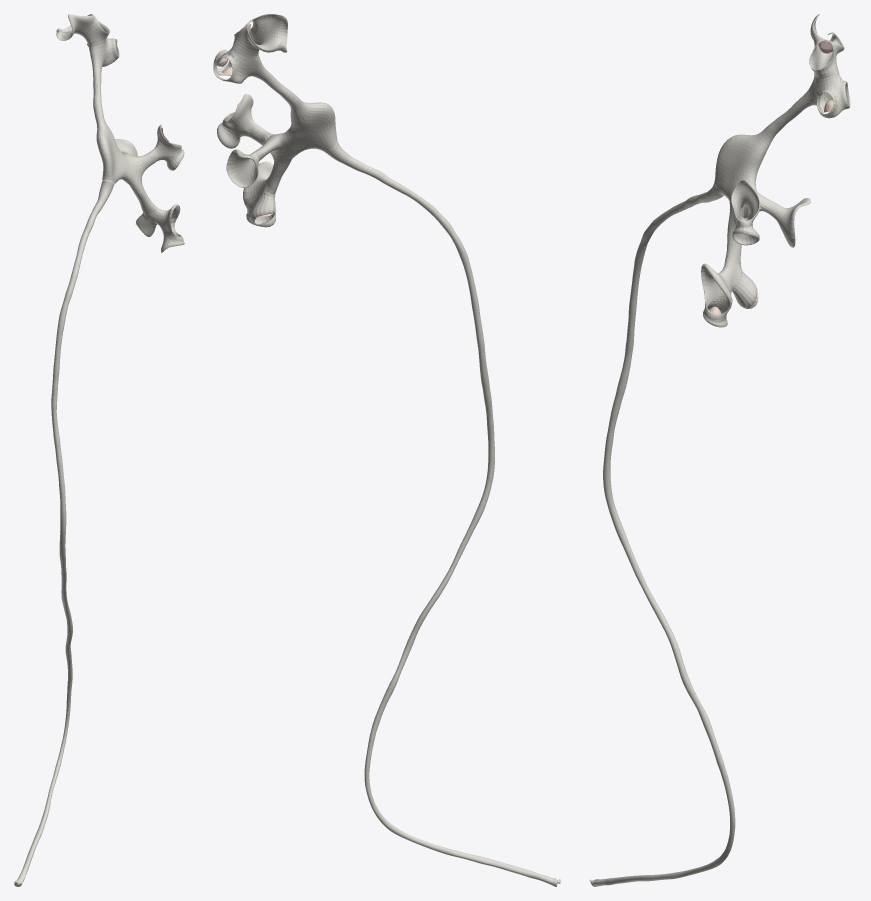
The model's file is VH_F_Ureter_L_0.8.glb.
3 renders of one model, left to right at view 1: azimuth 30°, elevation 25°; view 2: azimuth 150°, elevation 25°; view 3: azimuth 270°, elevation 25°, orthographic. The views are drawn at different scales.
Visible parts, largest first — view 1: VH_F_left_ureter, VH_F_renal_pelvis_L, VH_F_minor_calyx_L_a, VH_F_major_calyx_L_a, VH_F_minor_calyx_L_h, VH_F_major_calyx_L_d, VH_F_major_calyx_L_c, VH_F_minor_calyx_L_f; view 2: VH_F_left_ureter, VH_F_renal_pelvis_L, VH_F_minor_calyx_L_a, VH_F_minor_calyx_L_e, VH_F_minor_calyx_L_c, VH_F_minor_calyx_L_f; view 3: VH_F_left_ureter, VH_F_renal_pelvis_L, VH_F_minor_calyx_L_h, VH_F_minor_calyx_L_f, VH_F_major_calyx_L_a, VH_F_minor_calyx_L_a, VH_F_minor_calyx_L_e, VH_F_minor_calyx_L_i, VH_F_minor_calyx_L_d, VH_F_major_calyx_L_d, VH_F_minor_calyx_L_c, VH_F_minor_calyx_L_b (+1 smaller).
Boxes of the visible parts, left/top/right/bottom form: VH_F_left_ureter: left=14, top=180, right=113, bottom=886; VH_F_renal_pelvis_L: left=94, top=106, right=130, bottom=184; VH_F_minor_calyx_L_a: left=56, top=14, right=99, bottom=48; VH_F_major_calyx_L_a: left=89, top=43, right=105, bottom=111; VH_F_minor_calyx_L_h: left=151, top=204, right=183, bottom=242; VH_F_major_calyx_L_d: left=129, top=172, right=156, bottom=216; VH_F_major_calyx_L_c: left=128, top=148, right=159, bottom=181; VH_F_minor_calyx_L_f: left=154, top=124, right=181, bottom=156; VH_F_left_ureter: left=326, top=141, right=560, bottom=886; VH_F_renal_pelvis_L: left=281, top=94, right=337, bottom=158; VH_F_minor_calyx_L_a: left=236, top=14, right=287, bottom=59; VH_F_minor_calyx_L_e: left=226, top=149, right=259, bottom=187; VH_F_minor_calyx_L_c: left=213, top=48, right=256, bottom=83; VH_F_minor_calyx_L_f: left=222, top=94, right=253, bottom=130; VH_F_left_ureter: left=589, top=182, right=735, bottom=886; VH_F_renal_pelvis_L: left=714, top=122, right=777, bottom=214; VH_F_minor_calyx_L_h: left=701, top=263, right=736, bottom=321; VH_F_minor_calyx_L_f: left=731, top=180, right=760, bottom=227; VH_F_major_calyx_L_a: left=773, top=76, right=823, bottom=132; VH_F_minor_calyx_L_a: left=810, top=14, right=844, bottom=69; VH_F_minor_calyx_L_e: left=777, top=198, right=810, bottom=247; VH_F_minor_calyx_L_i: left=732, top=268, right=757, bottom=308; VH_F_minor_calyx_L_d: left=816, top=74, right=838, bottom=117; VH_F_major_calyx_L_d: left=724, top=202, right=743, bottom=267; VH_F_minor_calyx_L_c: left=816, top=73, right=850, bottom=118; VH_F_minor_calyx_L_b: left=809, top=39, right=838, bottom=79.
Size of the model in its own units: 0.0825 by 0.266 by 0.0672.
